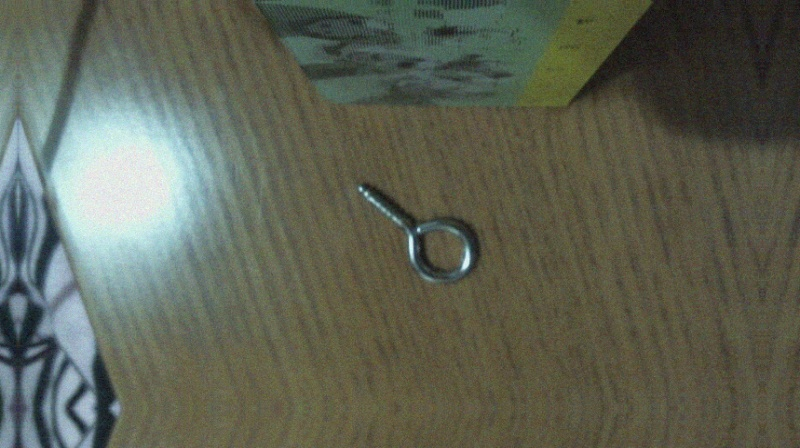O001: (352, 178, 482, 287)
